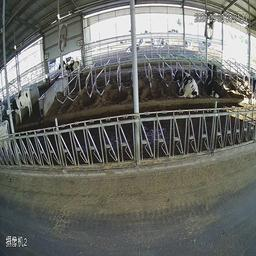cow: (170, 69, 199, 102), (6, 87, 33, 122), (204, 76, 226, 103)
